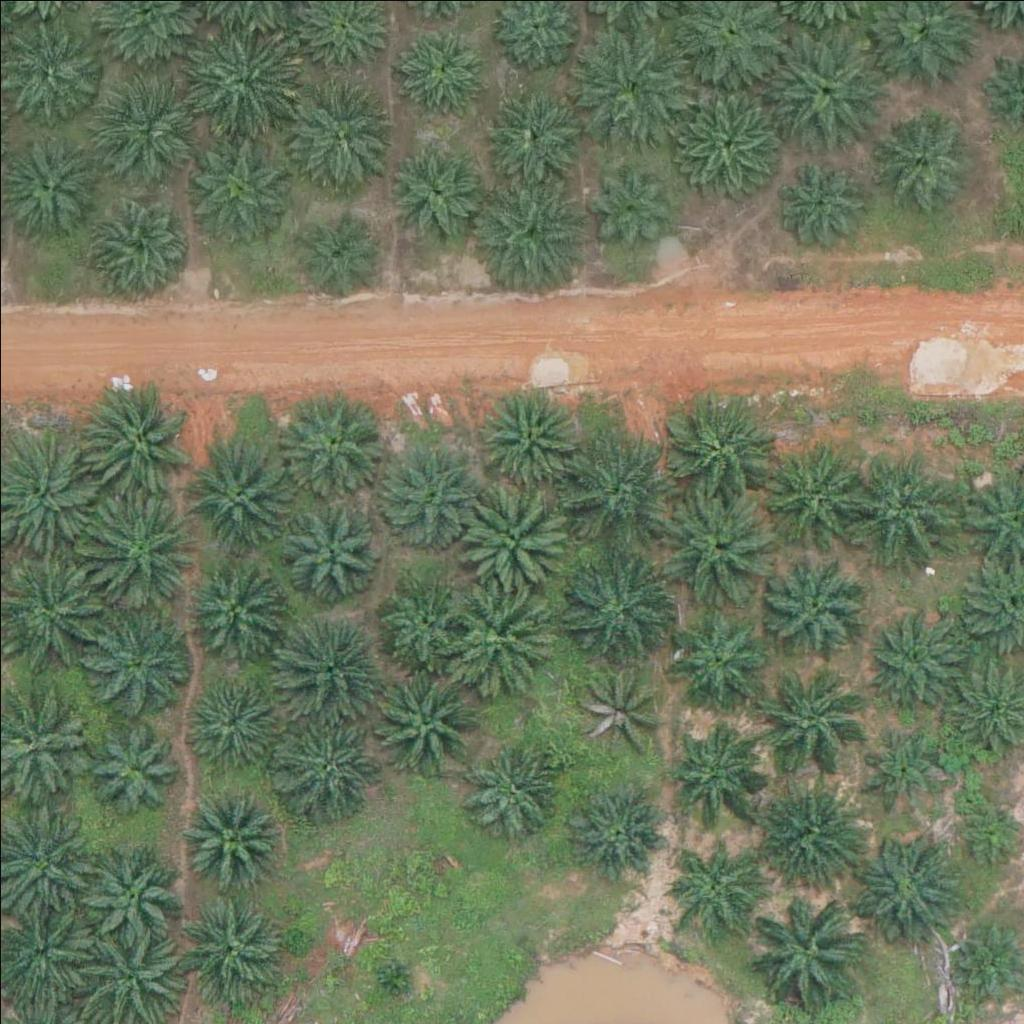Kelapa_Sawit: (88, 489, 201, 603), (272, 388, 385, 502), (185, 436, 298, 550), (573, 24, 686, 137), (675, 83, 788, 196), (290, 76, 403, 189), (273, 610, 386, 723), (661, 389, 774, 502), (748, 899, 861, 1012), (854, 826, 967, 939), (186, 130, 298, 244), (474, 181, 586, 295), (82, 605, 194, 719), (750, 667, 862, 781), (852, 450, 964, 564), (764, 34, 876, 147), (187, 16, 299, 129), (77, 379, 189, 492), (369, 666, 481, 779), (446, 583, 558, 696), (459, 485, 571, 598), (557, 430, 669, 543), (561, 551, 673, 664), (663, 489, 775, 602), (762, 432, 874, 545), (759, 771, 871, 884), (770, 152, 870, 253), (484, 82, 584, 183), (82, 713, 182, 814), (81, 843, 181, 944), (280, 492, 380, 593), (379, 448, 479, 549), (465, 737, 565, 838), (669, 717, 769, 818), (767, 555, 867, 656), (867, 604, 967, 705), (871, 103, 971, 203), (101, 77, 201, 177), (90, 194, 190, 294), (392, 24, 492, 124), (385, 148, 485, 248), (180, 893, 280, 993), (179, 784, 279, 884), (179, 668, 279, 768), (183, 552, 283, 652), (277, 708, 377, 808), (480, 386, 580, 486), (568, 783, 668, 883), (669, 614, 769, 714), (293, 210, 381, 298), (381, 577, 469, 665), (856, 723, 944, 811), (582, 162, 669, 250), (572, 664, 659, 752), (670, 834, 757, 922), (372, 955, 422, 1006)
